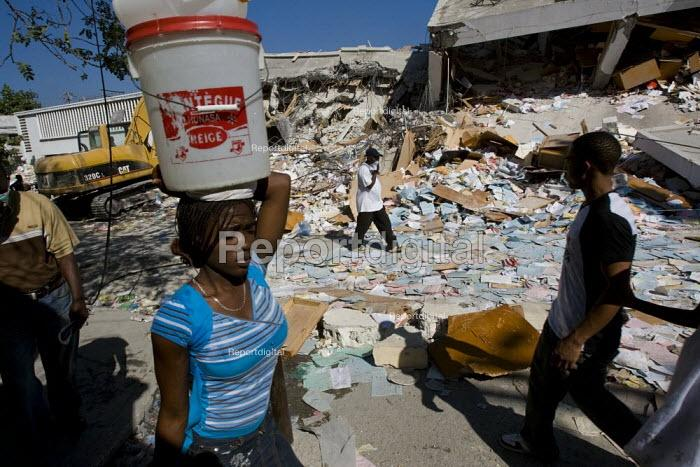victim: (496, 128, 646, 460), (144, 165, 294, 467), (0, 154, 97, 450), (340, 144, 407, 262)
